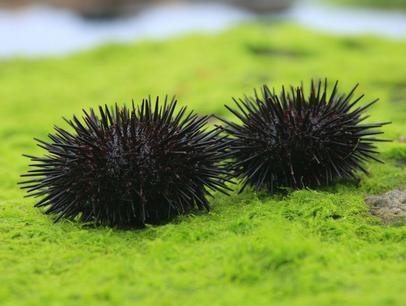urchin: (16, 92, 238, 231), (210, 78, 393, 196)
